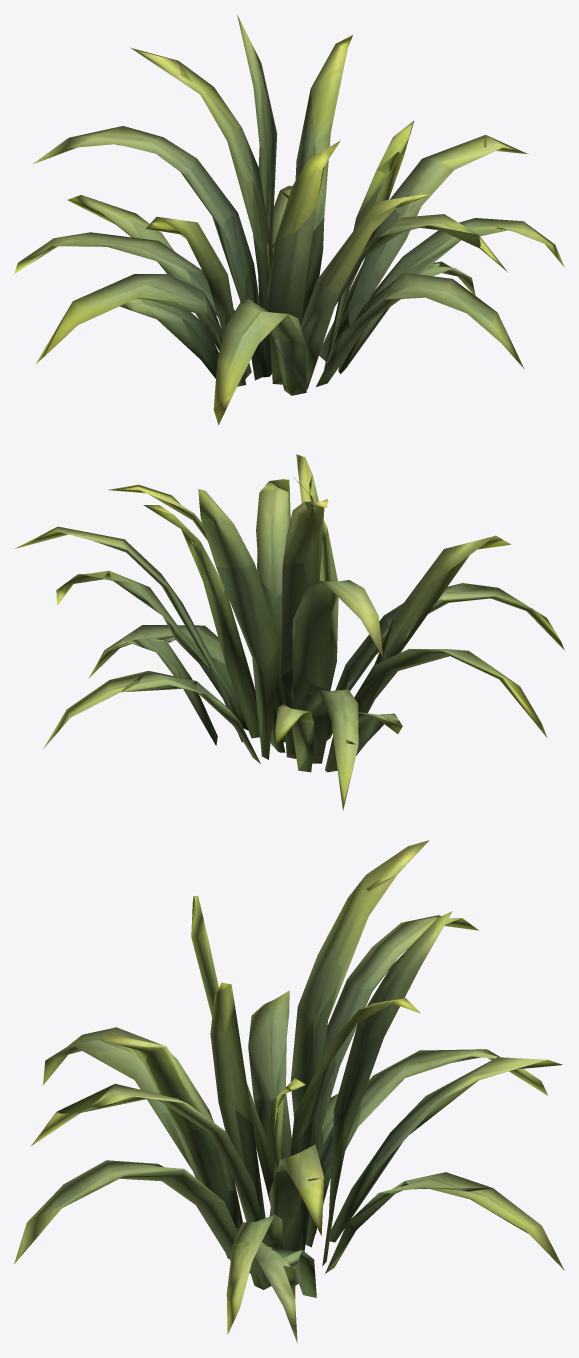
The model's file is grass_a.glb.
3 renders of one model, top to bottom at view 1: azimuth 30°, elevation 25°; view 2: azimuth 150°, elevation 25°; view 3: azimuth 270°, elevation 25°, orthographic. The views are drawn at different scales.
Visible parts, largest first — view 1: tripo_node_a0942d70-590a-4ec9-9a60-d5b9bc524bc9; view 2: tripo_node_a0942d70-590a-4ec9-9a60-d5b9bc524bc9; view 3: tripo_node_a0942d70-590a-4ec9-9a60-d5b9bc524bc9.
Boxes of the visible parts, <box> form: tripo_node_a0942d70-590a-4ec9-9a60-d5b9bc524bc9: <box>14,15,564,425</box>; tripo_node_a0942d70-590a-4ec9-9a60-d5b9bc524bc9: <box>15,454,564,810</box>; tripo_node_a0942d70-590a-4ec9-9a60-d5b9bc524bc9: <box>14,840,564,1343</box>.
Size of the model in its own units: 0.5519 by 0.32 by 0.4326.
1 material, 1 textured.
